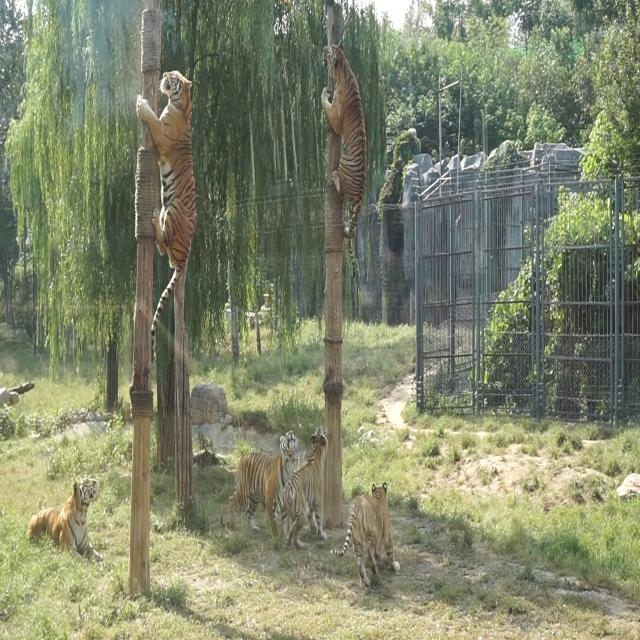Tiger: (136, 65, 198, 362), (316, 39, 369, 267), (215, 428, 301, 550), (22, 471, 109, 577), (329, 476, 403, 588), (276, 426, 330, 548)
